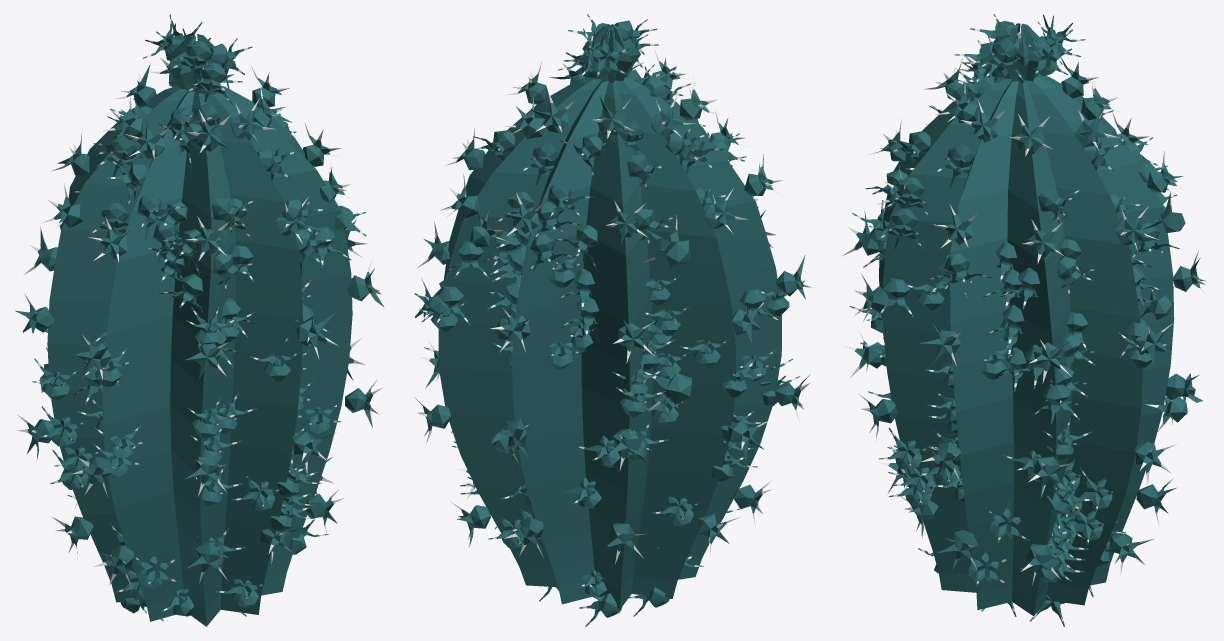
The model's file is ResourceBeforeFlower4.fbx.
The picture shows the model from 3 angles, left to right: view 1: azimuth 30°, elevation 25°; view 2: azimuth 150°, elevation 25°; view 3: azimuth 270°, elevation 25°; orthographic projection.
Parts seen in each view (by area): view 1: Cylinder.009; view 2: Cylinder.009; view 3: Cylinder.009.
Part boxes in pixels (x1,y1,x2,y2): Cylinder.009: (15,14,384,626); Cylinder.009: (414,14,812,626); Cylinder.009: (842,14,1207,626).
Size of the model in its own units: 8.67 by 14.28 by 8.19.
